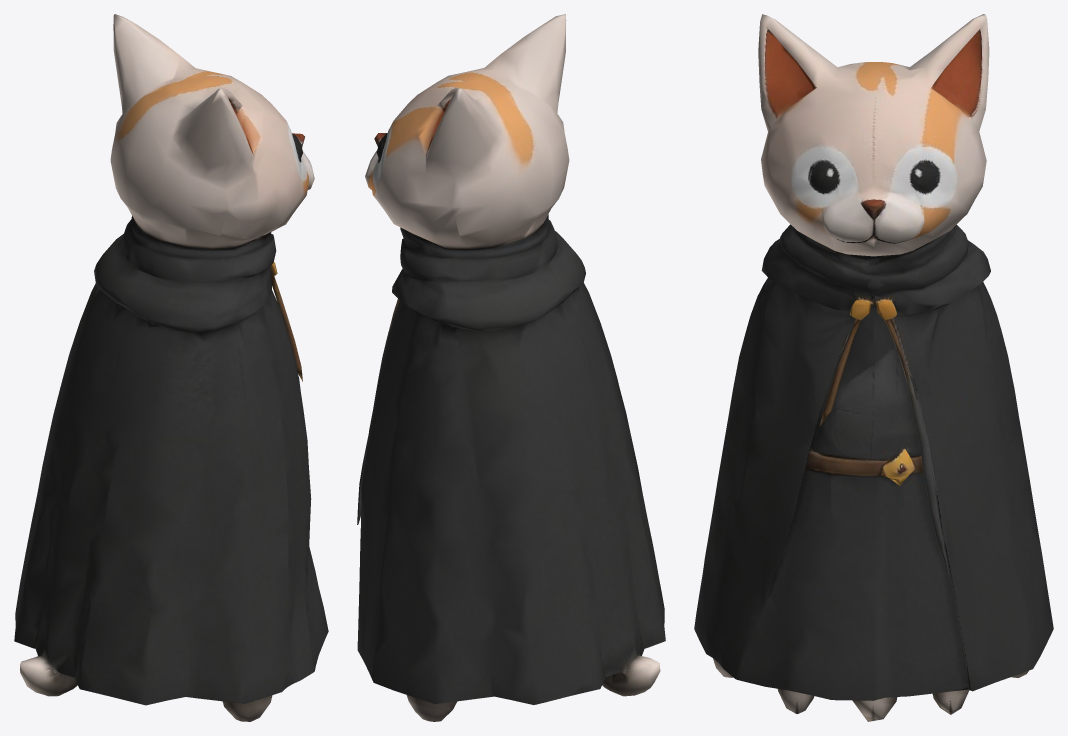
Rendered from booth-cat.glb.
3 views of the same model, side by side, from view 1: azimuth 30°, elevation 25°; view 2: azimuth 150°, elevation 25°; view 3: azimuth 270°, elevation 25° (orthographic). The views are drawn at different scales.
Visible parts, largest first — view 1: tripo_node_48e8406f-6fcc-440d-bcd0-1e0019f68bfa; view 2: tripo_node_48e8406f-6fcc-440d-bcd0-1e0019f68bfa; view 3: tripo_node_48e8406f-6fcc-440d-bcd0-1e0019f68bfa.
Boxes of the visible parts, x1,y1,x2,y2 form: tripo_node_48e8406f-6fcc-440d-bcd0-1e0019f68bfa: (14,14,328,721); tripo_node_48e8406f-6fcc-440d-bcd0-1e0019f68bfa: (357,14,665,721); tripo_node_48e8406f-6fcc-440d-bcd0-1e0019f68bfa: (694,14,1053,721).
Bounding box in the file's own units: 0.4778 × 1 × 0.4974.
1 material, 1 textured.
